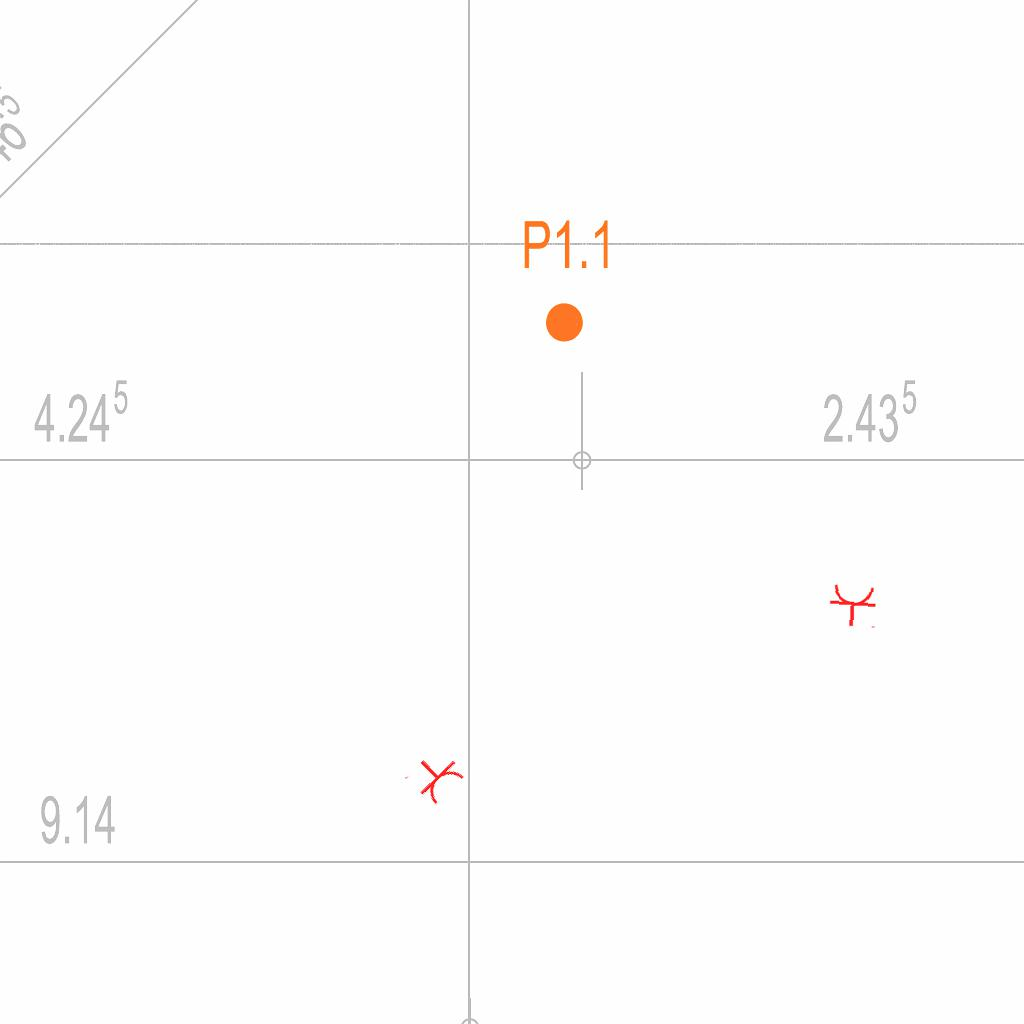Downlight_LED_Einbauleuchten_Flur: (521, 217, 614, 345)
Schukosteckdose_einfach: (402, 744, 469, 810), (827, 582, 880, 630)
